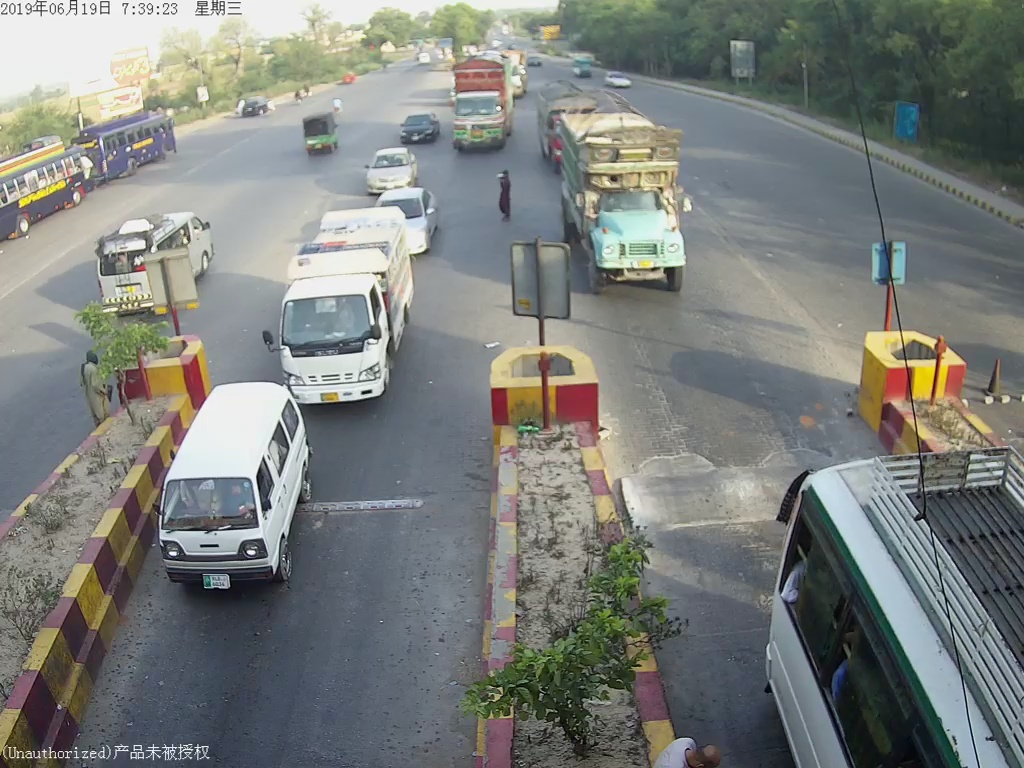Cat-1: (160, 376, 309, 584), (358, 144, 418, 195)
Cat-2: (276, 204, 416, 398)
Cat-4: (558, 103, 698, 297), (451, 51, 521, 155)
